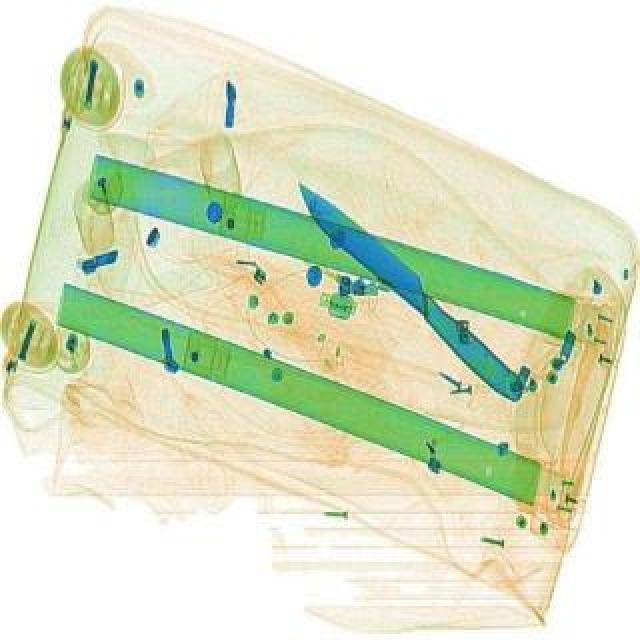knife: (284, 170, 536, 406)
